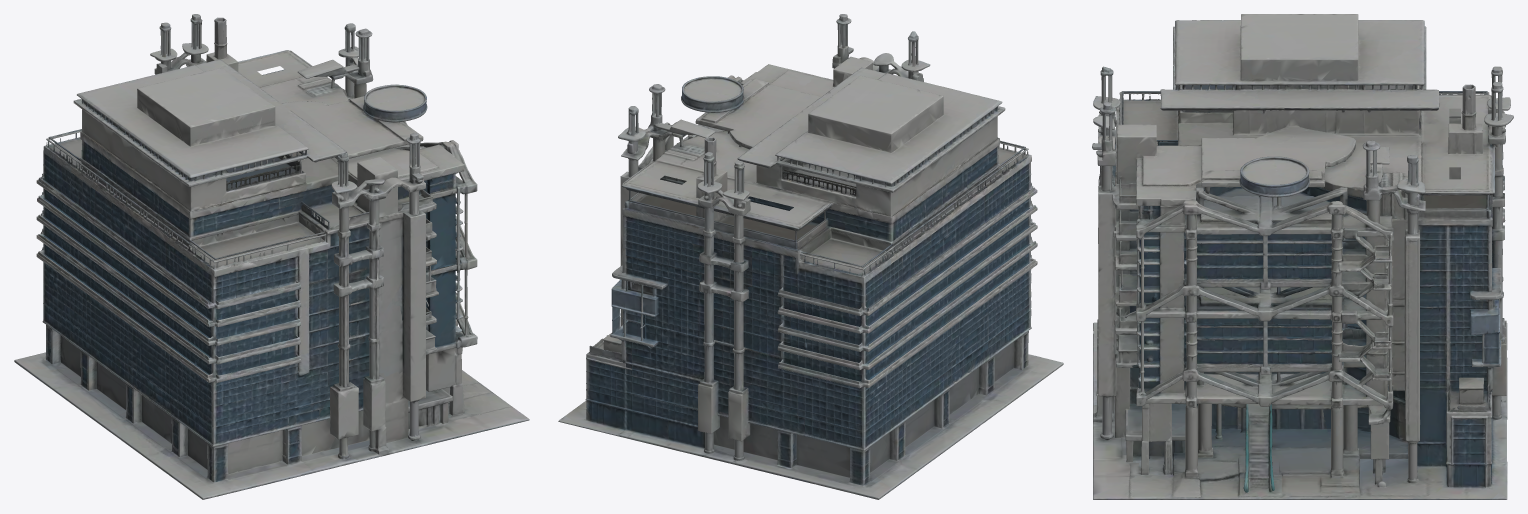
The model's file is hsbc.glb.
3 renders of one model, left to right at view 1: azimuth 30°, elevation 25°; view 2: azimuth 150°, elevation 25°; view 3: azimuth 270°, elevation 25°, orthographic. The views are drawn at different scales.
Parts seen in each view (by area): view 1: tripo_node_959f47e6-0186-4bf8-a6b1-270efddeedbf; view 2: tripo_node_959f47e6-0186-4bf8-a6b1-270efddeedbf; view 3: tripo_node_959f47e6-0186-4bf8-a6b1-270efddeedbf.
Boxes of the visible parts, bbox=[...] form: tripo_node_959f47e6-0186-4bf8-a6b1-270efddeedbf: bbox=[14, 14, 529, 499]; tripo_node_959f47e6-0186-4bf8-a6b1-270efddeedbf: bbox=[558, 14, 1063, 499]; tripo_node_959f47e6-0186-4bf8-a6b1-270efddeedbf: bbox=[1092, 14, 1513, 499].
Bounding box in the file's own units: 0.9833 × 0.8911 × 1.
1 material, 1 textured.
